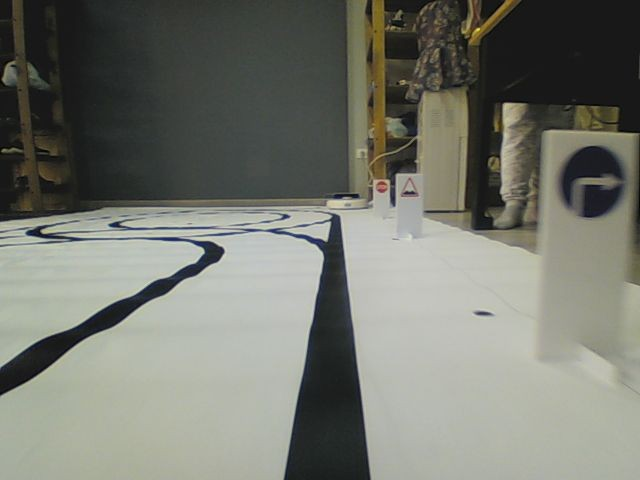Nerov: (400, 176, 420, 197)
Right: (559, 143, 625, 220)
